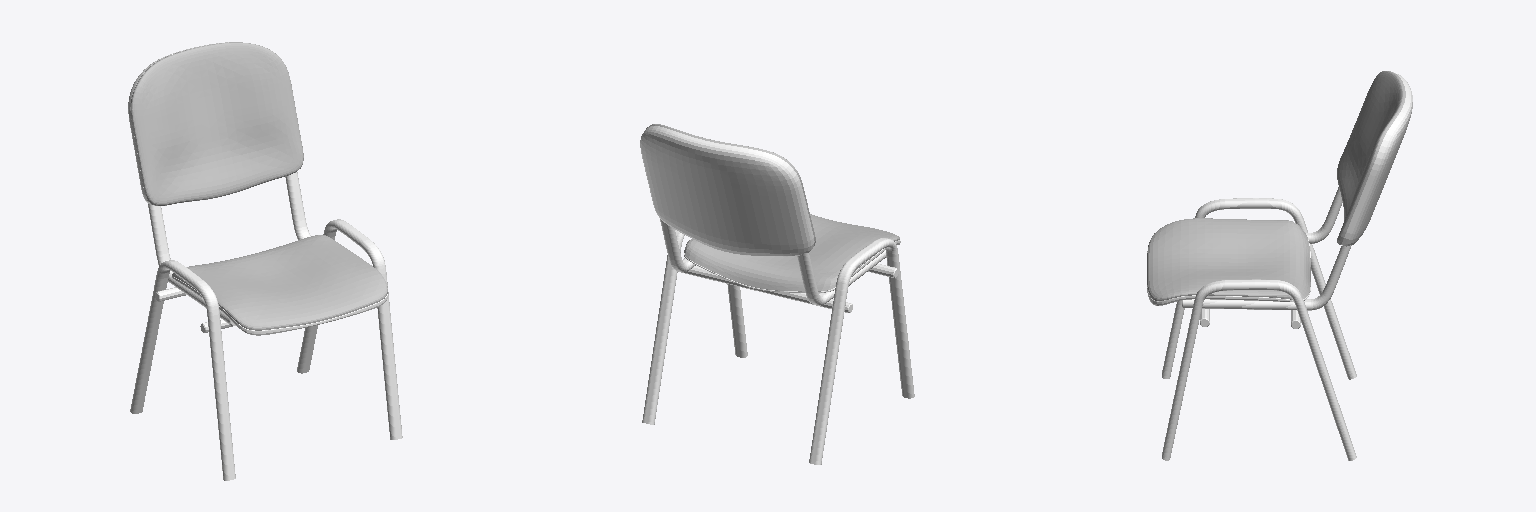
The model's file is chair.obj.
The picture shows the model from 3 angles: view 1: azimuth 30°, elevation 25°; view 2: azimuth 150°, elevation 25°; view 3: azimuth 270°, elevation 25°; orthographic projection.
Visible parts, largest first — view 1: BackCushion Chair polySurface1, Chair SeatCushion polySurface1, Chair RightLeg polySurface1, Chair LeftLeg polySurface1, Chair Right polySurface1, Chair Left polySurface1, Chair SeatPlastic polySurface1; view 2: BackPlastic Chair polySurface1, Chair SeatCushion polySurface1, Chair RightLeg polySurface1, Chair LeftLeg polySurface1, Chair Right polySurface1, Back Chair polySurface1, Chair Left polySurface1; view 3: Chair SeatCushion polySurface1, BackCushion Chair polySurface1, Chair LeftLeg polySurface1, Chair RightLeg polySurface1, BackPlastic Chair polySurface1, Chair Left polySurface1, Chair Right polySurface1, Chair SeatPlastic polySurface1.
Part boxes in pixels (x1,y1,x2,y2): BackCushion Chair polySurface1: (131, 42, 303, 205); Chair SeatCushion polySurface1: (172, 235, 387, 330); Chair RightLeg polySurface1: (130, 260, 235, 480); Chair LeftLeg polySurface1: (297, 219, 402, 439); Chair Right polySurface1: (148, 204, 235, 325); Chair Left polySurface1: (285, 172, 310, 239); Chair SeatPlastic polySurface1: (172, 276, 388, 335); BackPlastic Chair polySurface1: (640, 126, 814, 256); Chair SeatCushion polySurface1: (684, 214, 899, 291); Chair RightLeg polySurface1: (809, 238, 914, 464); Chair LeftLeg polySurface1: (642, 230, 747, 424); Chair Right polySurface1: (797, 250, 885, 305); Back Chair polySurface1: (678, 266, 852, 312); Chair Left polySurface1: (660, 219, 695, 271); Chair SeatCushion polySurface1: (1147, 218, 1310, 300); BackCushion Chair polySurface1: (1337, 71, 1405, 244); Chair LeftLeg polySurface1: (1162, 279, 1356, 460); Chair RightLeg polySurface1: (1162, 198, 1356, 379); BackPlastic Chair polySurface1: (1341, 72, 1412, 246); Chair Left polySurface1: (1182, 245, 1351, 310); Chair Right polySurface1: (1306, 187, 1342, 243); Chair SeatPlastic polySurface1: (1147, 239, 1310, 305).
Size of the model in its own units: 7.28 by 12.41 by 9.23.